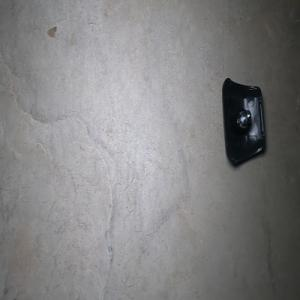LuggagePart: (221, 76, 266, 165)
